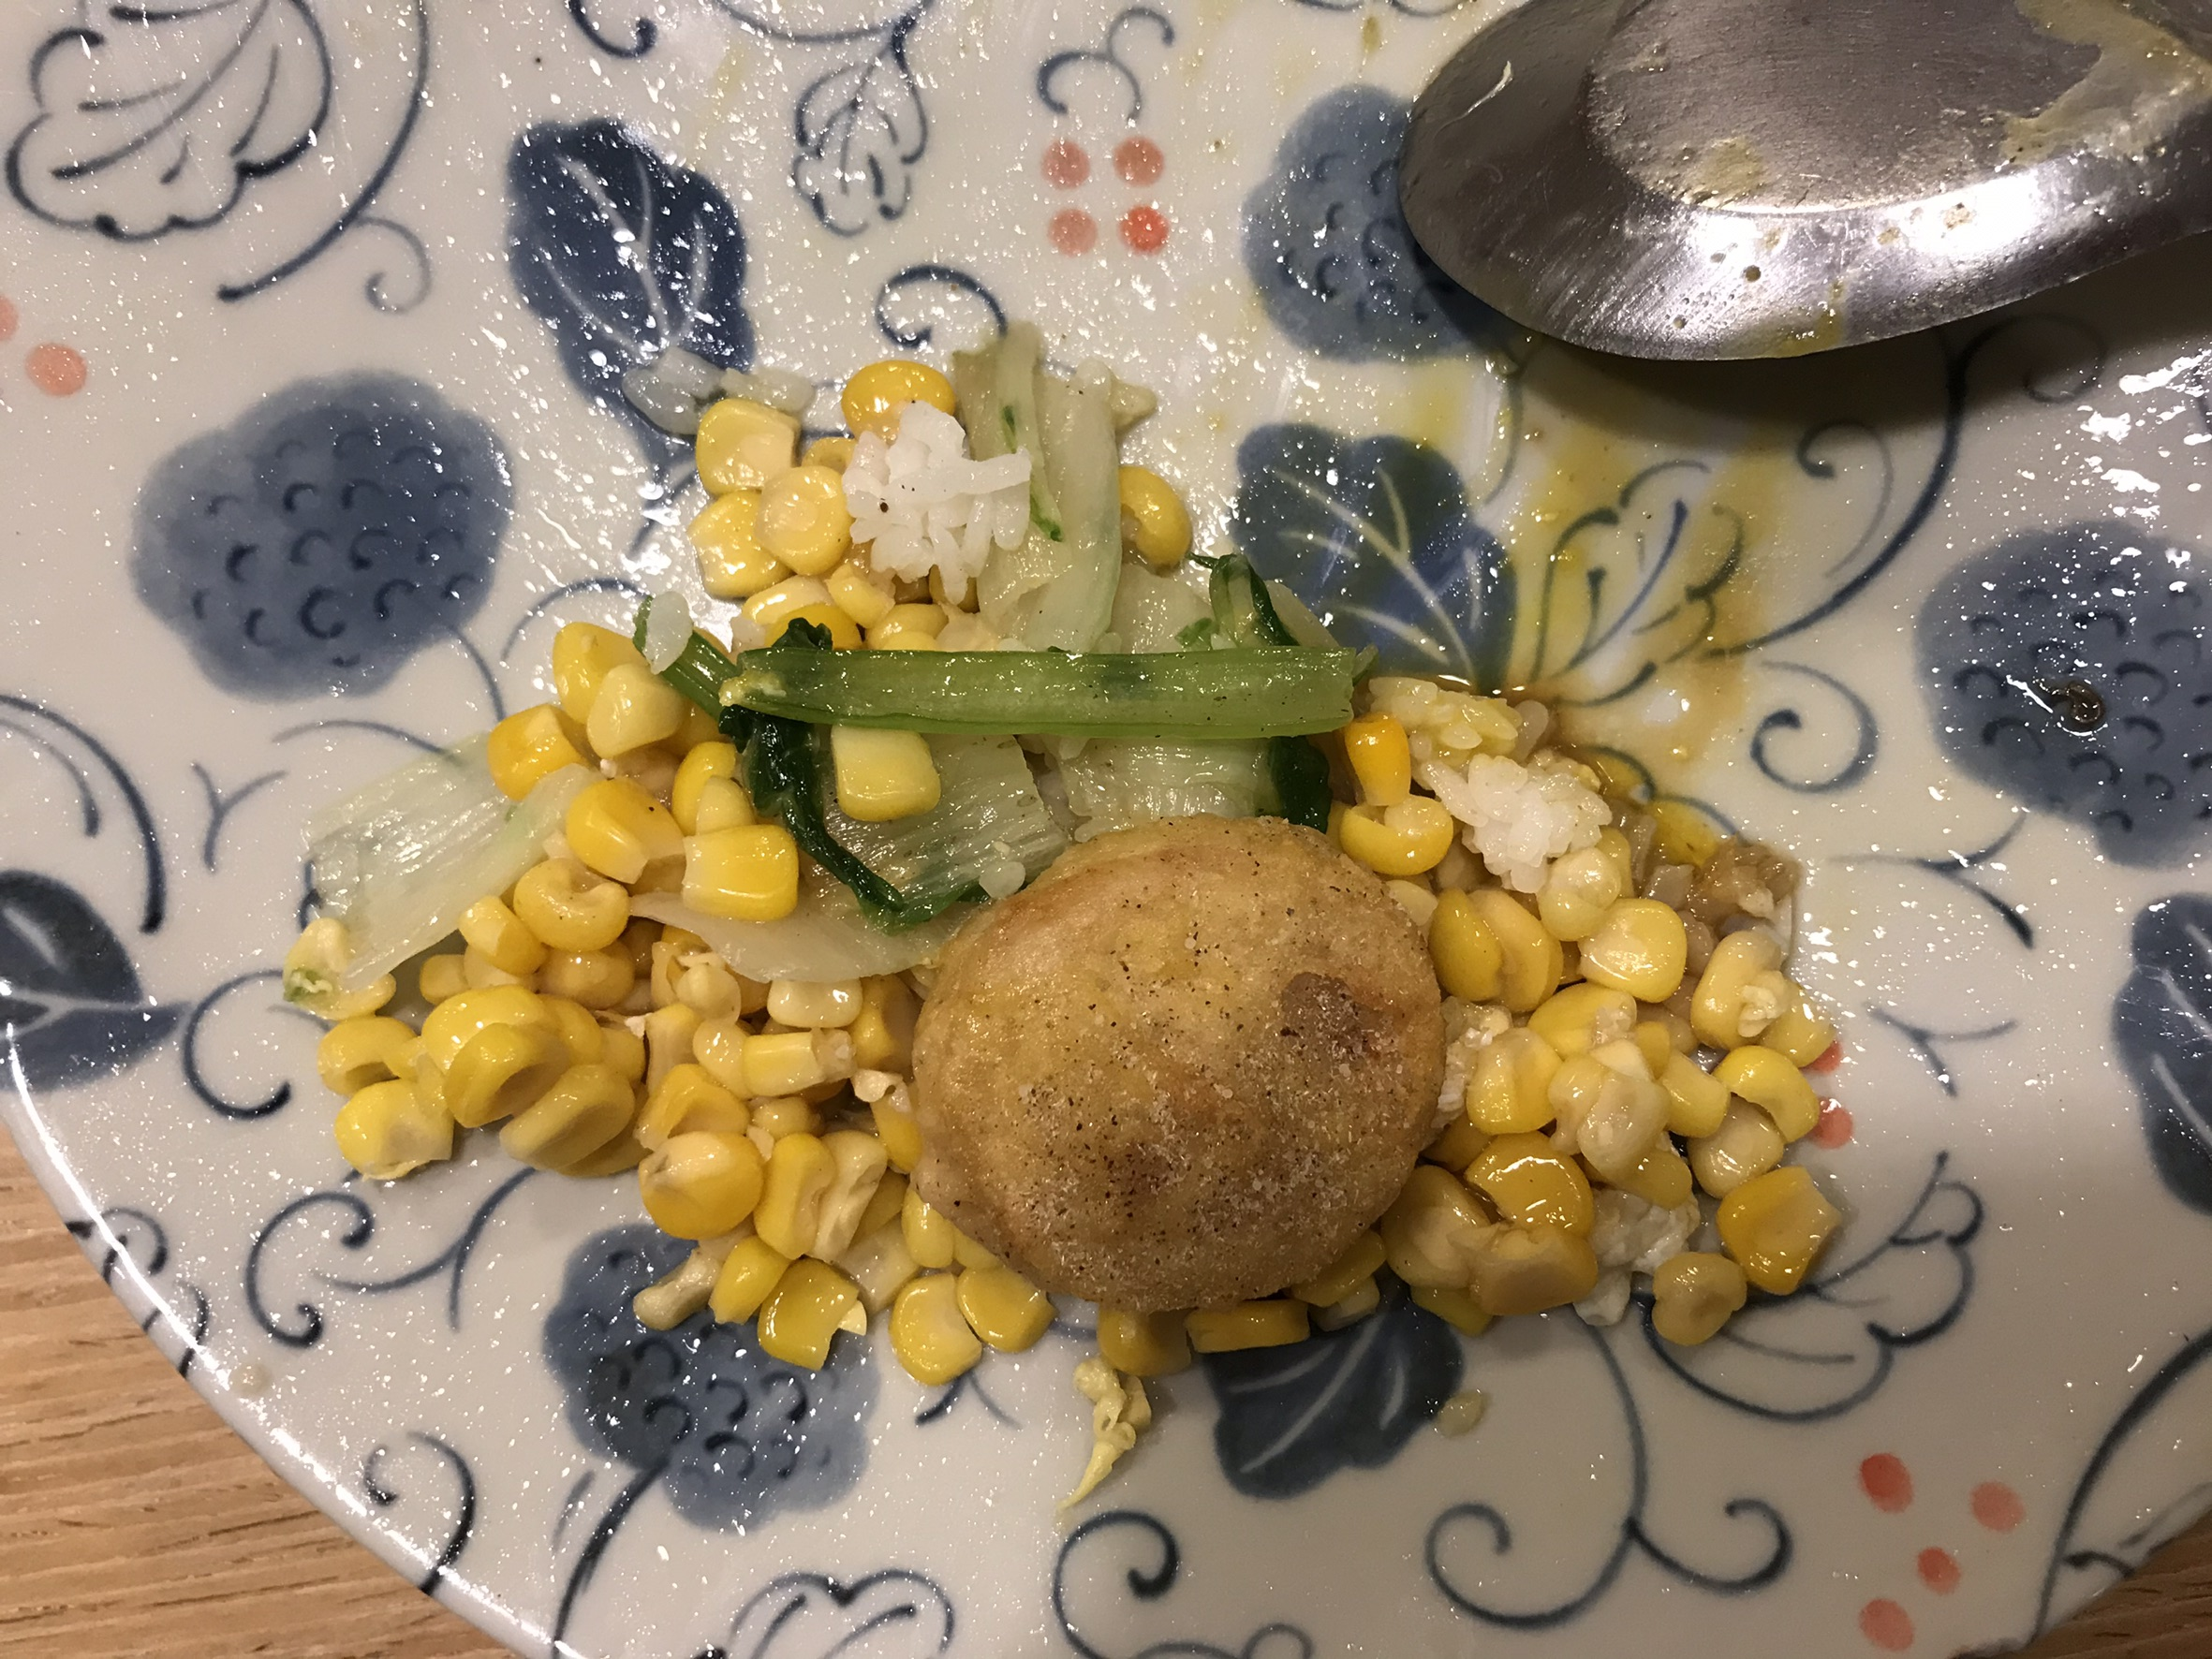chicken_nuggets: (906, 809, 1452, 1317)
